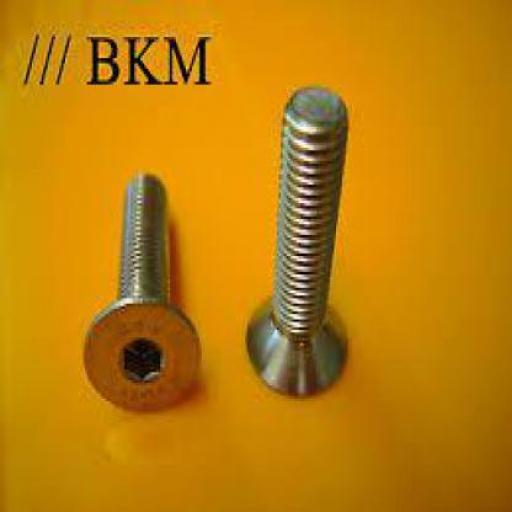Bolt: (245, 84, 351, 399), (82, 171, 204, 415)
